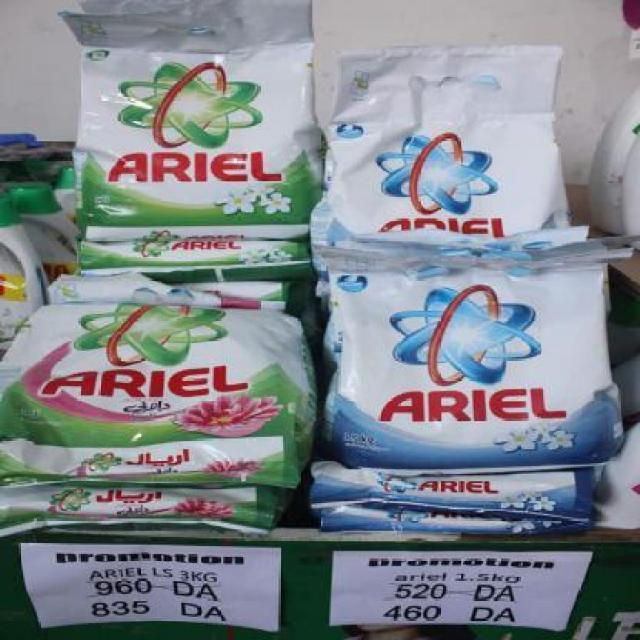Detergent: (336, 266, 612, 474), (5, 295, 322, 463), (325, 48, 576, 250), (78, 38, 306, 240)
